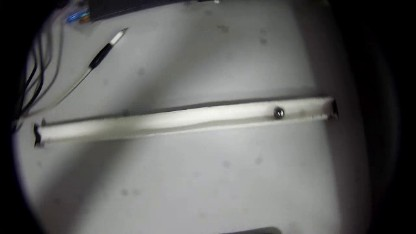gangzhu: (272, 105, 286, 119)
